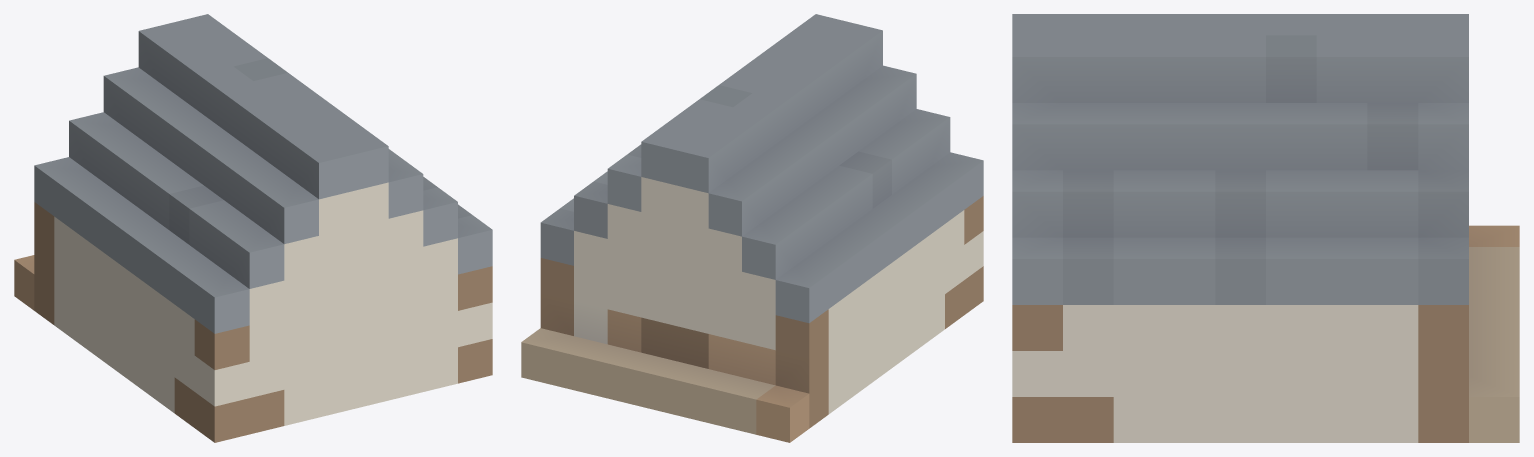
The model's file is vineyard.lite.glb.
3 renders of one model, left to right at view 1: azimuth 30°, elevation 25°; view 2: azimuth 150°, elevation 25°; view 3: azimuth 270°, elevation 25°, orthographic. The views are drawn at different scales.
Parts seen in each view (by area): view 1: vineyard; view 2: vineyard; view 3: vineyard.
Part boxes in pixels (x1,y1,x2,y2): vineyard: (14, 14, 492, 442); vineyard: (521, 14, 983, 442); vineyard: (1012, 14, 1519, 442).
Bounding box in the file's own units: 4 × 3.5 × 5.
